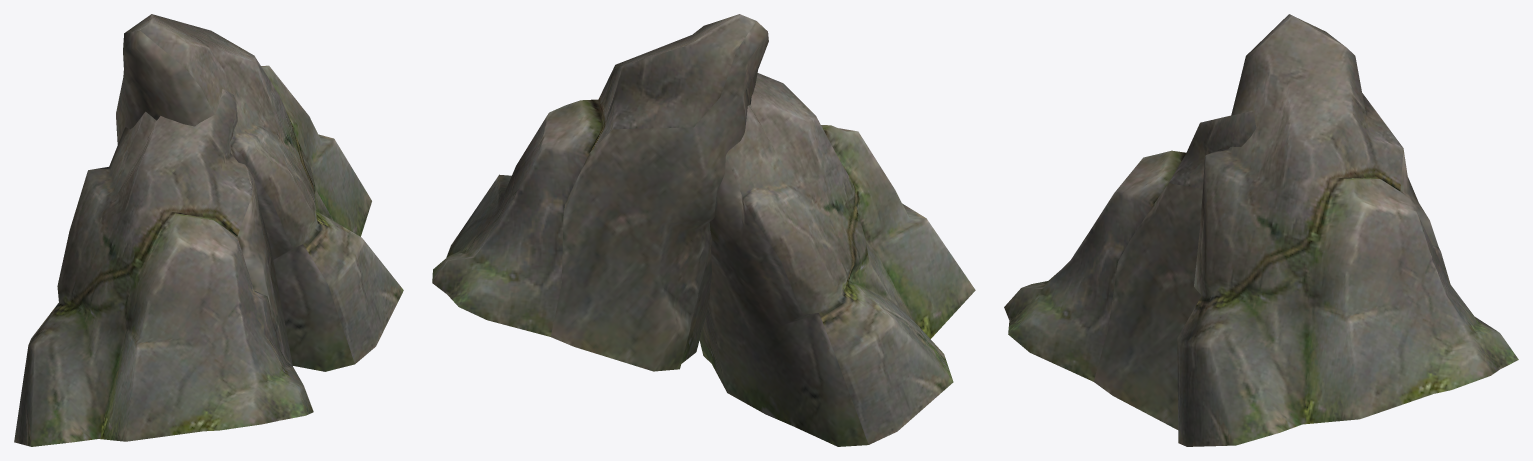
File: m_shitou_015.FBX
3 renders of one model, left to right at view 1: azimuth 30°, elevation 25°; view 2: azimuth 150°, elevation 25°; view 3: azimuth 270°, elevation 25°, orthographic. The views are drawn at different scales.
Visible parts, largest first — view 1: m_shitou_015; view 2: m_shitou_015; view 3: m_shitou_015.
Boxes of the visible parts, x1,y1,x2,y2 form: m_shitou_015: (14, 14, 403, 446); m_shitou_015: (432, 14, 975, 446); m_shitou_015: (1004, 14, 1518, 446).
Bounding box in the file's own units: 136 × 122 × 140.
